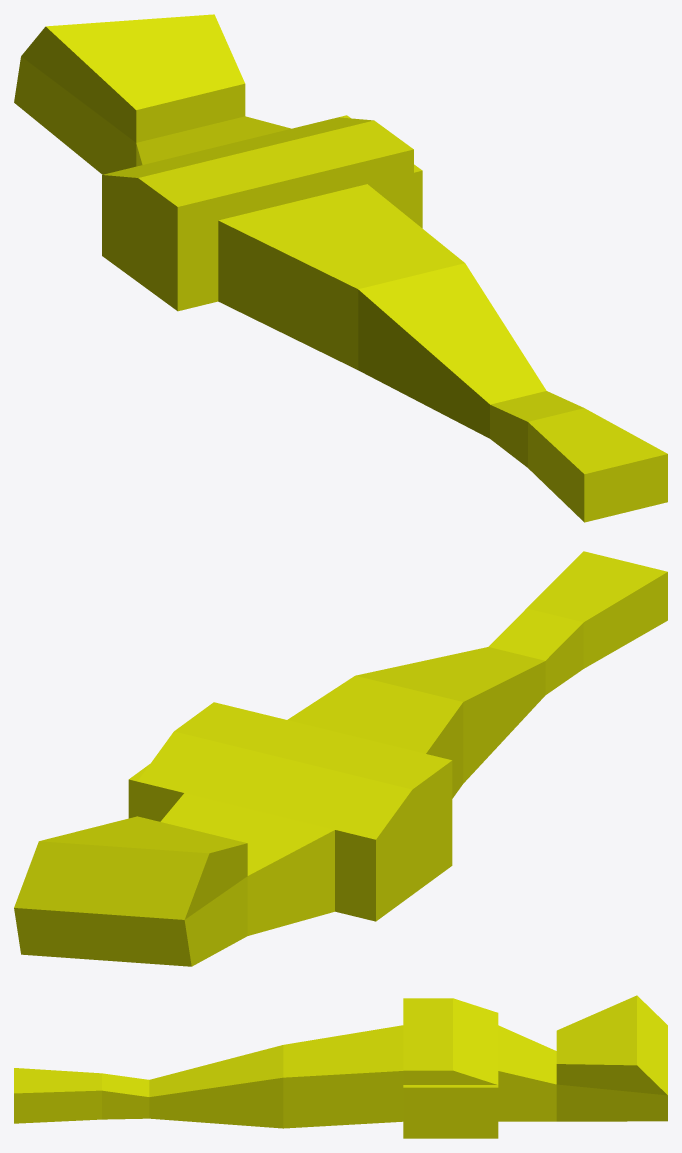
File: low_gisante.fbx
3 renders of one model, top to bottom at view 1: azimuth 30°, elevation 25°; view 2: azimuth 150°, elevation 25°; view 3: azimuth 270°, elevation 25°, orthographic. The views are drawn at different scales.
Visible parts, largest first — view 1: pCube1; view 2: pCube1; view 3: pCube1.
Boxes of the visible parts, bbox=[...] form: pCube1: bbox=[14, 14, 667, 522]; pCube1: bbox=[14, 551, 667, 966]; pCube1: bbox=[14, 995, 667, 1138].
Bounding box in the file's own units: 546 × 309 × 2011.
